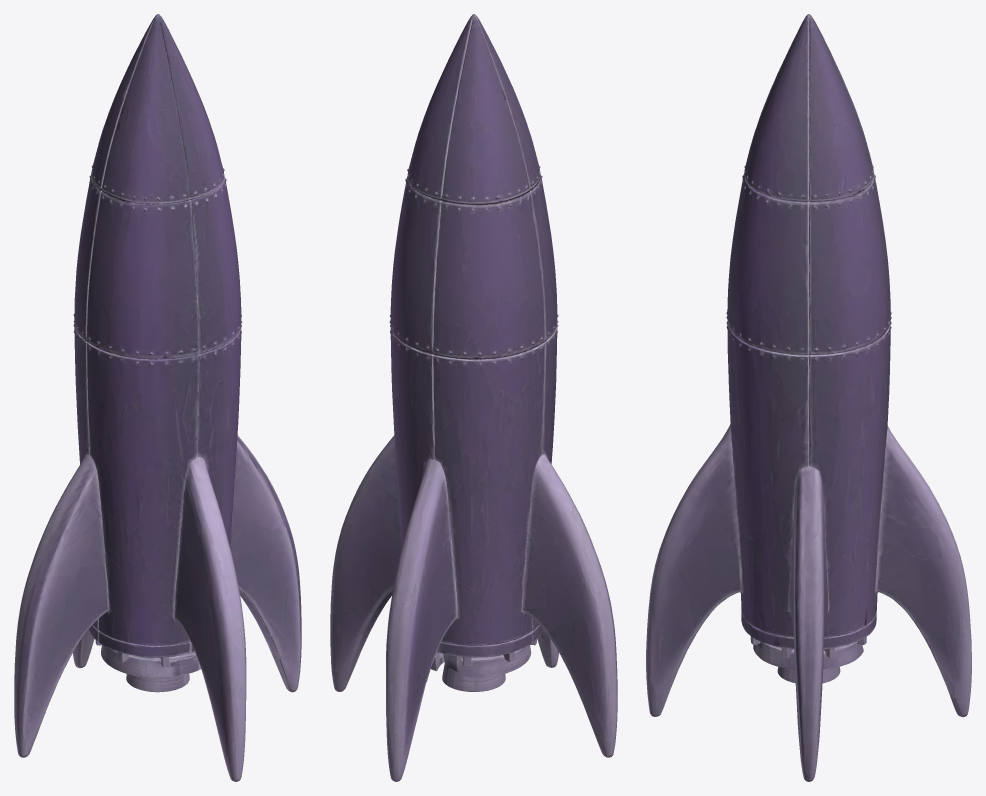
Rendered from rocket.glb.
The picture shows the model from 3 angles, left to right: view 1: azimuth 30°, elevation 25°; view 2: azimuth 150°, elevation 25°; view 3: azimuth 270°, elevation 25°; orthographic projection.
Visible parts, largest first — view 1: Mesh_0; view 2: Mesh_0; view 3: Mesh_0.
Part boxes in pixels (<box>): Mesh_0: <box>14,14,301,781</box>; Mesh_0: <box>330,14,617,781</box>; Mesh_0: <box>646,14,971,781</box>.
Size of the model in its own units: 0.7968 by 1.9 by 0.8008.
Materials: 1 (1 with a texture image).
